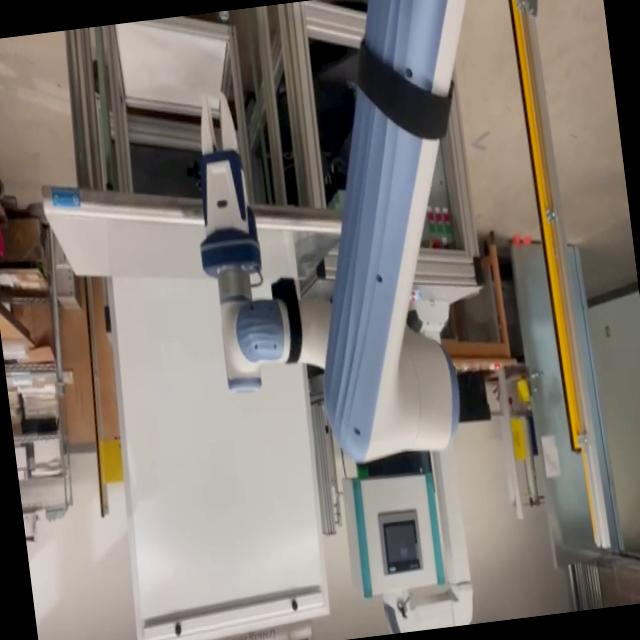robot: (167, 0, 526, 483)
